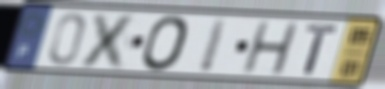0: (47, 11, 87, 67)
H: (238, 20, 301, 77)
I: (196, 16, 231, 74)
O: (140, 14, 192, 73)
T: (302, 23, 342, 77)
X: (76, 11, 142, 71)
